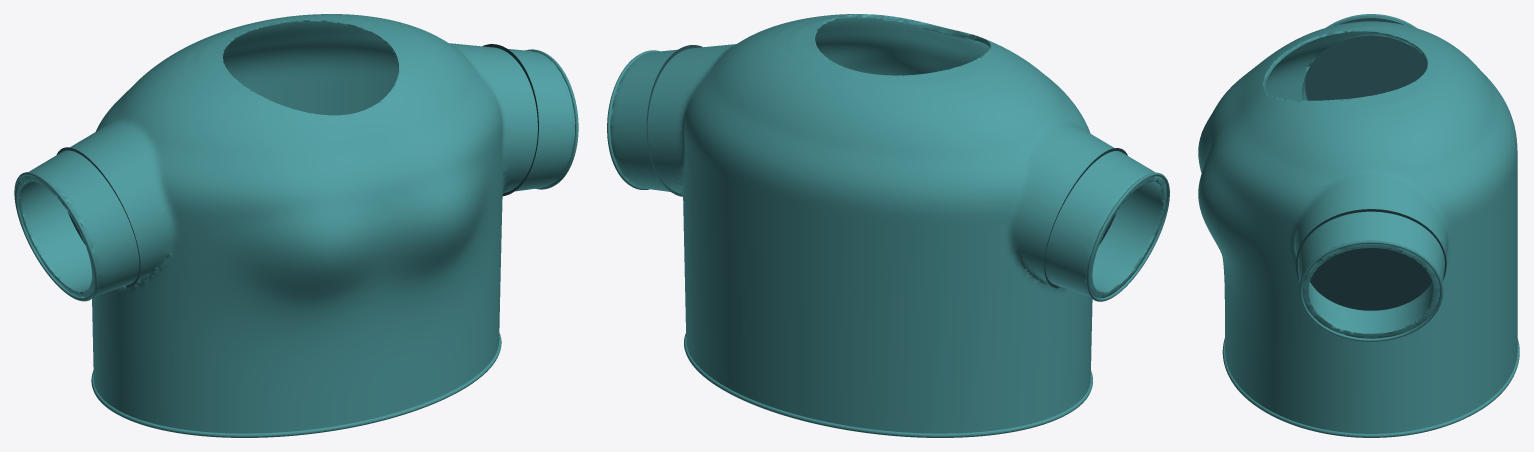
Rendered from Feminine-tshirt-top.glb.
3 views of the same model, side by side, from view 1: azimuth 30°, elevation 25°; view 2: azimuth 150°, elevation 25°; view 3: azimuth 270°, elevation 25° (orthographic). The views are drawn at different scales.
Visible parts, largest first — view 1: Clothing / tshirt, Shirt / hem export, Sleeve / open cuff -1 export, Sleeve / open cuff 1 export; view 2: Clothing / tshirt, Shirt / hem export, Sleeve / open cuff -1 export, Sleeve / open cuff 1 export; view 3: Clothing / tshirt, Sleeve / recessed facing 1, Sleeve / recessed facing -1, Shirt / hem export, Sleeve / open cuff 1 export.
Boxes of the visible parts, left/top/right/bottom form: Clothing / tshirt: left=17, top=14, right=575, bottom=433; Shirt / hem export: left=91, top=333, right=501, bottom=437; Sleeve / open cuff -1 export: left=14, top=172, right=98, bottom=301; Sleeve / open cuff 1 export: left=525, top=49, right=578, bottom=189; Clothing / tshirt: left=610, top=14, right=1166, bottom=433; Shirt / hem export: left=684, top=333, right=1092, bottom=437; Sleeve / open cuff -1 export: left=1086, top=172, right=1169, bottom=301; Sleeve / open cuff 1 export: left=607, top=50, right=659, bottom=189; Clothing / tshirt: left=1198, top=16, right=1517, bottom=433; Sleeve / recessed facing 1: left=1296, top=209, right=1446, bottom=310; Sleeve / recessed facing -1: left=1305, top=18, right=1427, bottom=100; Shirt / hem export: left=1222, top=338, right=1519, bottom=437; Sleeve / open cuff 1 export: left=1299, top=240, right=1443, bottom=341.
Size of the model in its own units: 0.9725 by 0.5798 by 0.5803.
